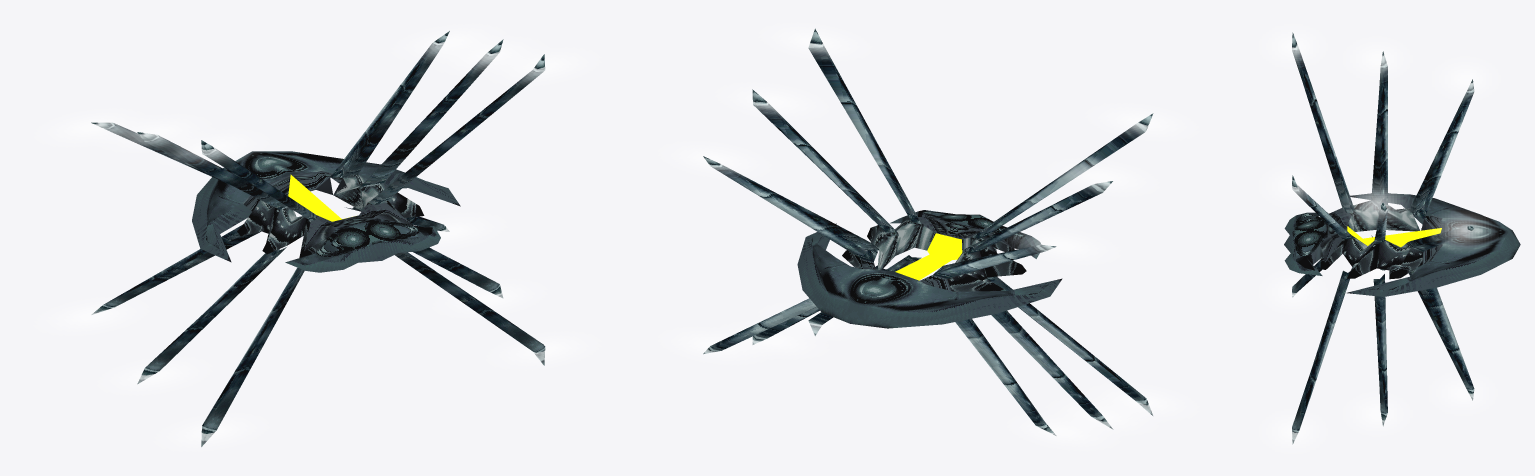
Rendered from ssesp_3db.gltf.
The picture shows the model from 3 angles, left to right: view 1: azimuth 30°, elevation 25°; view 2: azimuth 150°, elevation 25°; view 3: azimuth 270°, elevation 25°; orthographic projection. The views are drawn at different scales.
Parts seen in each view (by area): view 1: ssesp.3db; view 2: ssesp.3db; view 3: ssesp.3db.
Boxes of the visible parts, x1,y1,x2,y2 form: ssesp.3db: (46, 28, 588, 447); ssesp.3db: (671, 26, 1186, 446); ssesp.3db: (1266, 30, 1520, 447).
Bounding box in the file's own units: 22.47 × 13.3 × 12.23.
Materials: 5 (5 with a texture image).
